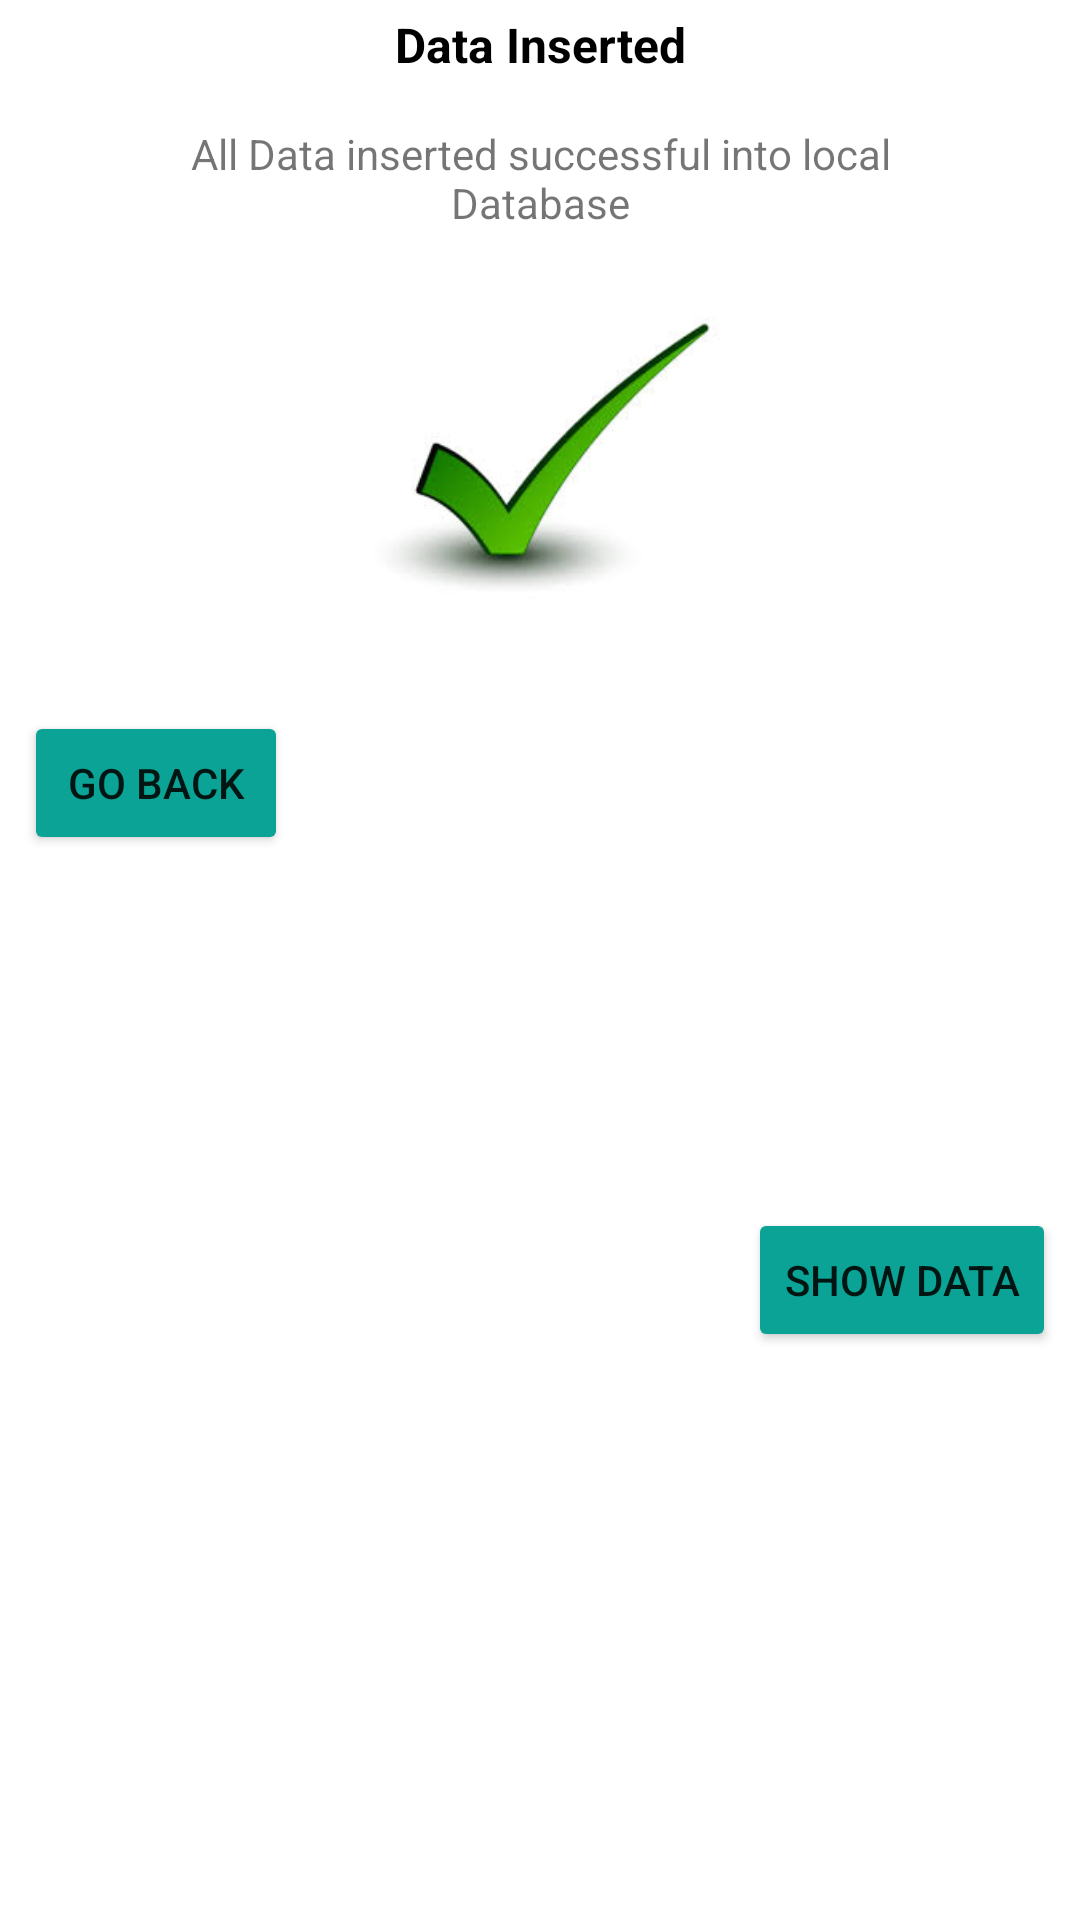

Screen size 1080 x 1920. Icon name, then its box in pixels as (x1, y1, x2, y2):
right: (406, 323, 710, 584)
